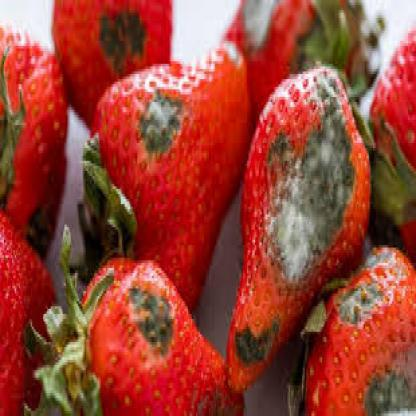strawberry_rotten: (208, 41, 378, 396)
